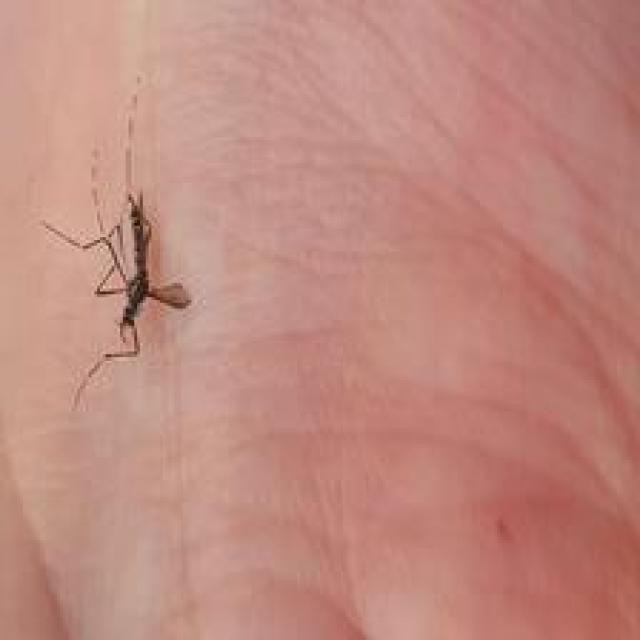Aedes albopictus: (41, 187, 193, 410)
